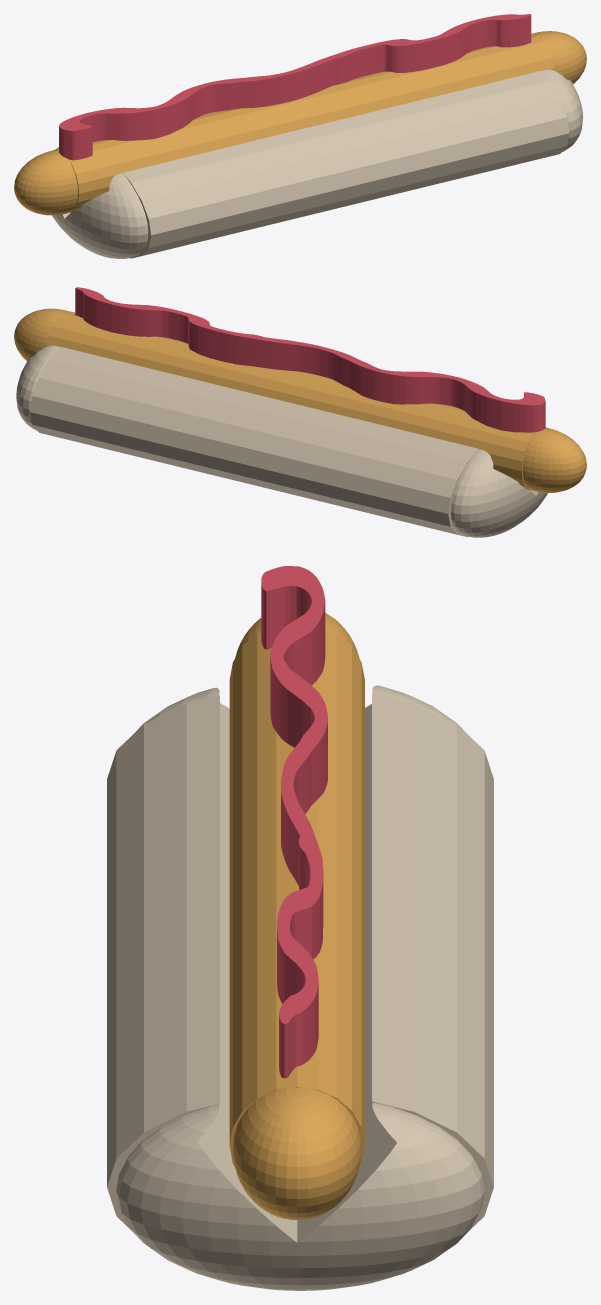
The model's file is Itan's dog with ketchup.glb.
The picture shows the model from 3 angles, top to bottom: view 1: azimuth 30°, elevation 25°; view 2: azimuth 150°, elevation 25°; view 3: azimuth 270°, elevation 25°; orthographic projection. The views are drawn at different scales.
Visible parts, largest first — view 1: Mesh_Mesh_head_geo.001_lambert2SG.001; view 2: Mesh_Mesh_head_geo.001_lambert2SG.001; view 3: Mesh_Mesh_head_geo.001_lambert2SG.001.
Part boxes in pixels (x1,y1,x2,y2): Mesh_Mesh_head_geo.001_lambert2SG.001: [14, 14, 586, 258]; Mesh_Mesh_head_geo.001_lambert2SG.001: [14, 287, 586, 537]; Mesh_Mesh_head_geo.001_lambert2SG.001: [107, 566, 493, 1290].
Size of the model in its own units: 203 by 45 by 60.
